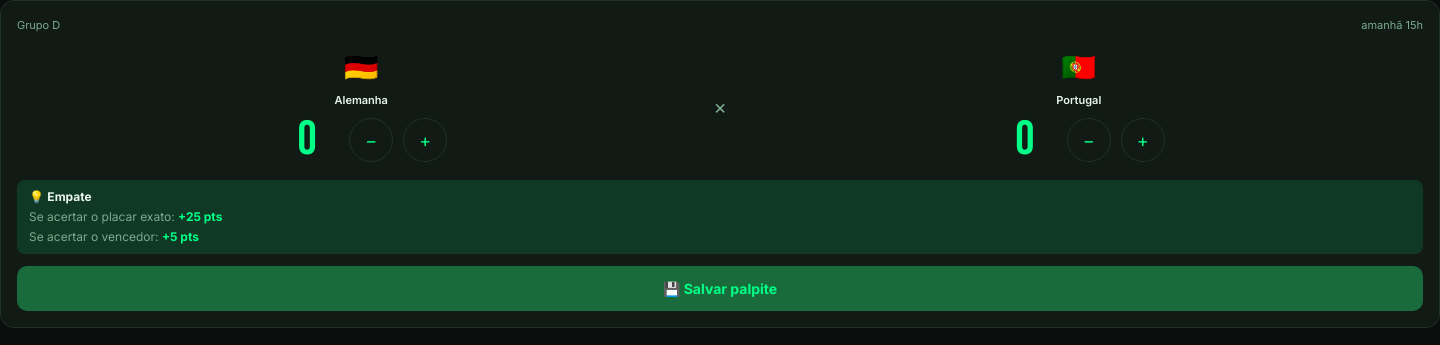
PlacarInput › salvar persiste no store e confirma o salvamento
Click the button "+" below "Alemanha".
click(425, 140)  # box [403,118,447,162]
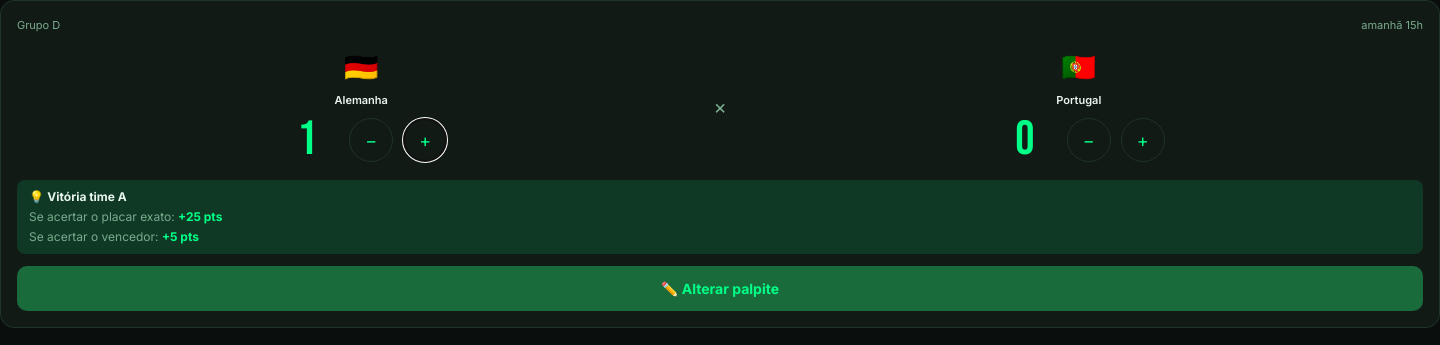
Click the button "+" below "Portugal".
click(1143, 140)  # box [1121,118,1165,162]
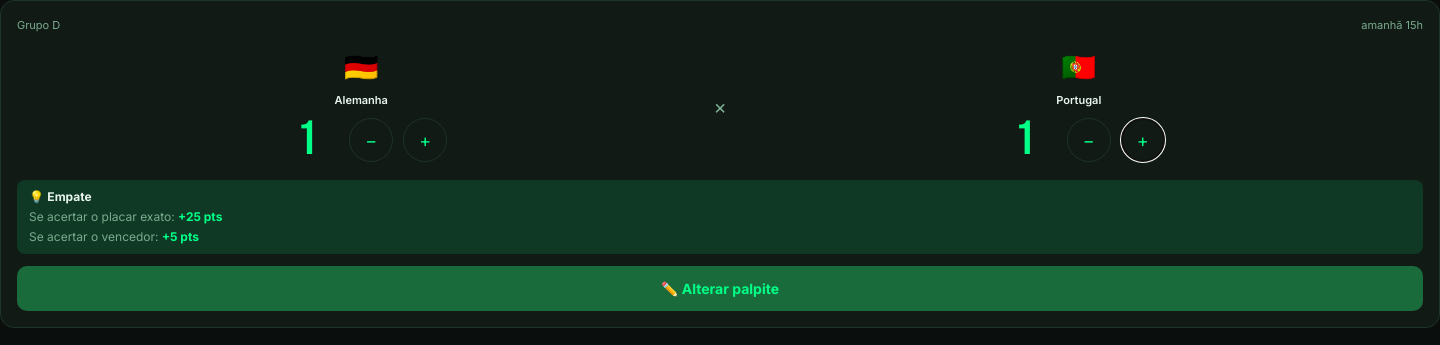
Click the button with aria-label "salvar palpite".
click(720, 288)  # box [17,266,1423,311]
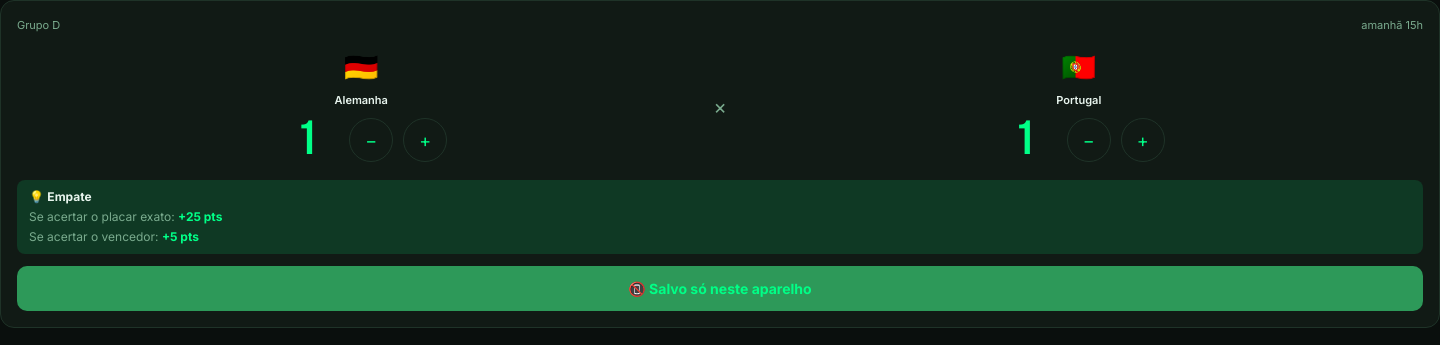
expect the button "📵 Salvo só neste aparelho" is shown: met, box [17,266,1423,311]
